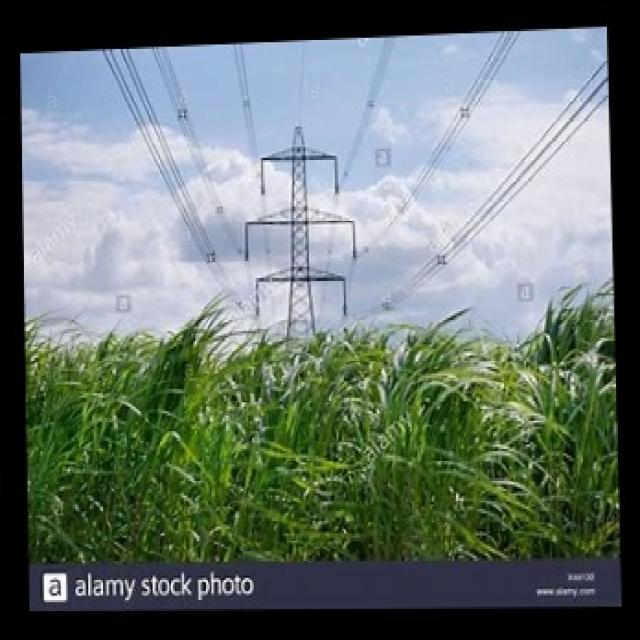utility poles: (249, 132, 355, 559)
